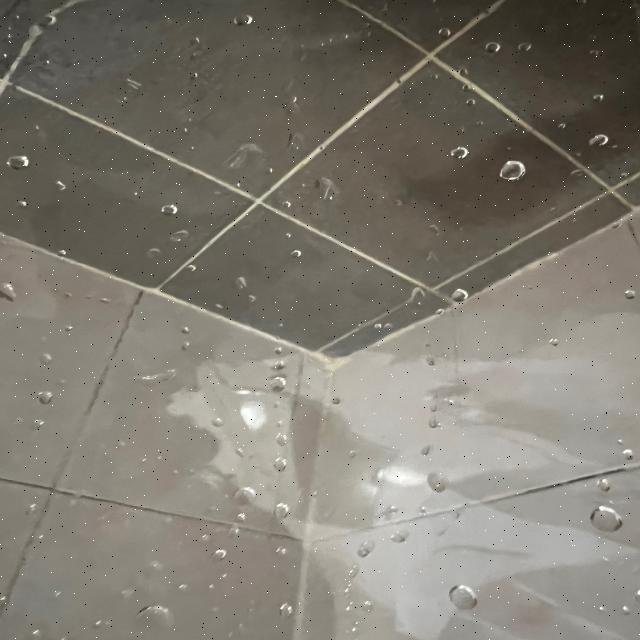raindrop: (131, 604, 179, 633), (587, 502, 626, 536), (443, 580, 481, 614), (129, 367, 179, 389), (494, 157, 530, 184), (311, 178, 338, 205), (444, 274, 466, 307), (270, 601, 300, 623), (228, 484, 253, 508), (26, 386, 56, 406), (266, 499, 288, 523), (406, 284, 430, 306), (588, 133, 616, 151), (444, 146, 469, 166), (226, 12, 256, 28), (154, 201, 181, 218), (261, 544, 289, 560), (508, 42, 540, 56), (426, 474, 446, 496), (352, 540, 374, 560), (211, 549, 233, 569), (6, 153, 27, 173), (0, 279, 17, 302), (475, 43, 504, 56), (282, 134, 302, 152), (261, 460, 286, 474), (596, 479, 618, 494), (282, 247, 304, 262), (273, 432, 291, 450), (357, 598, 376, 614), (168, 227, 189, 241), (227, 525, 244, 542), (175, 338, 192, 354), (418, 351, 436, 366), (386, 530, 408, 542), (278, 197, 296, 211), (618, 451, 640, 462), (268, 378, 284, 393), (56, 320, 73, 334), (436, 24, 450, 40), (460, 97, 476, 110)
